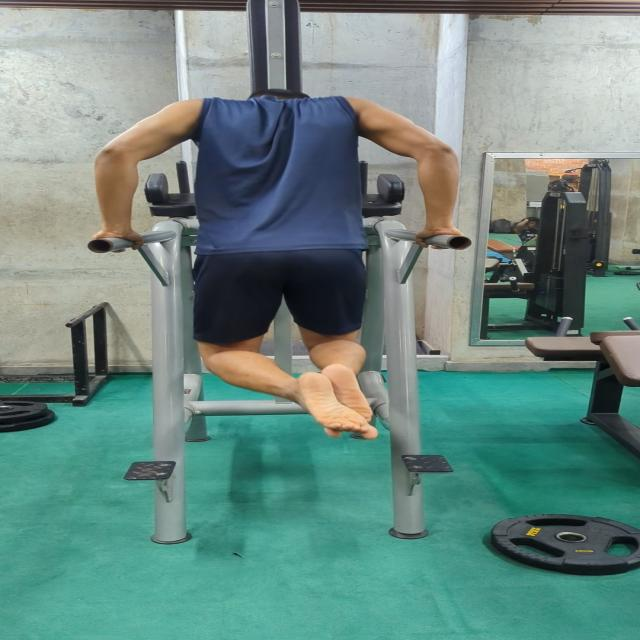Normal_Dips: (77, 72, 480, 443)
